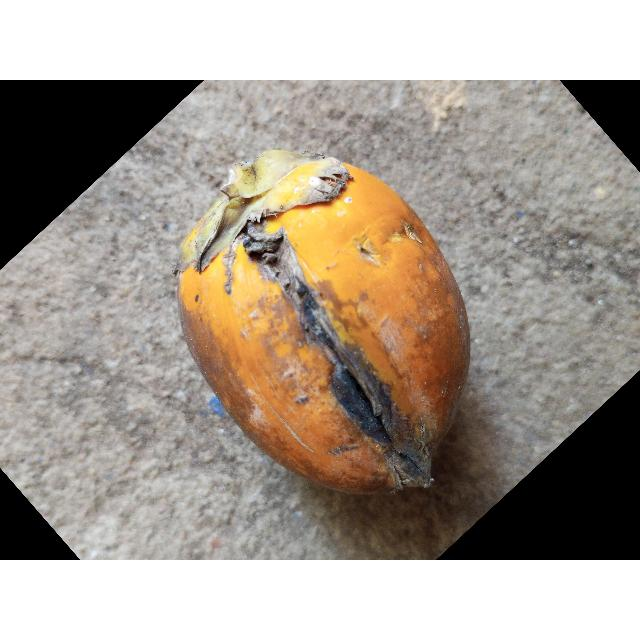damaged: (175, 150, 470, 493)
